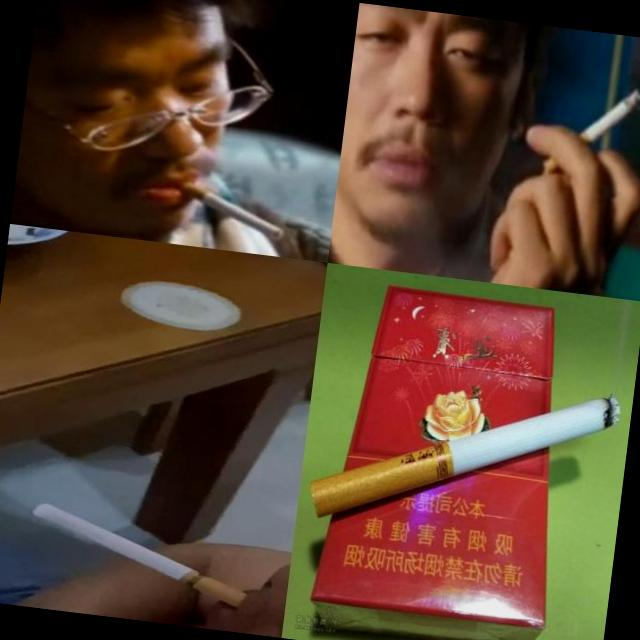smoke: (304, 357, 622, 552), (22, 501, 252, 609), (541, 78, 640, 185), (173, 178, 290, 240)
